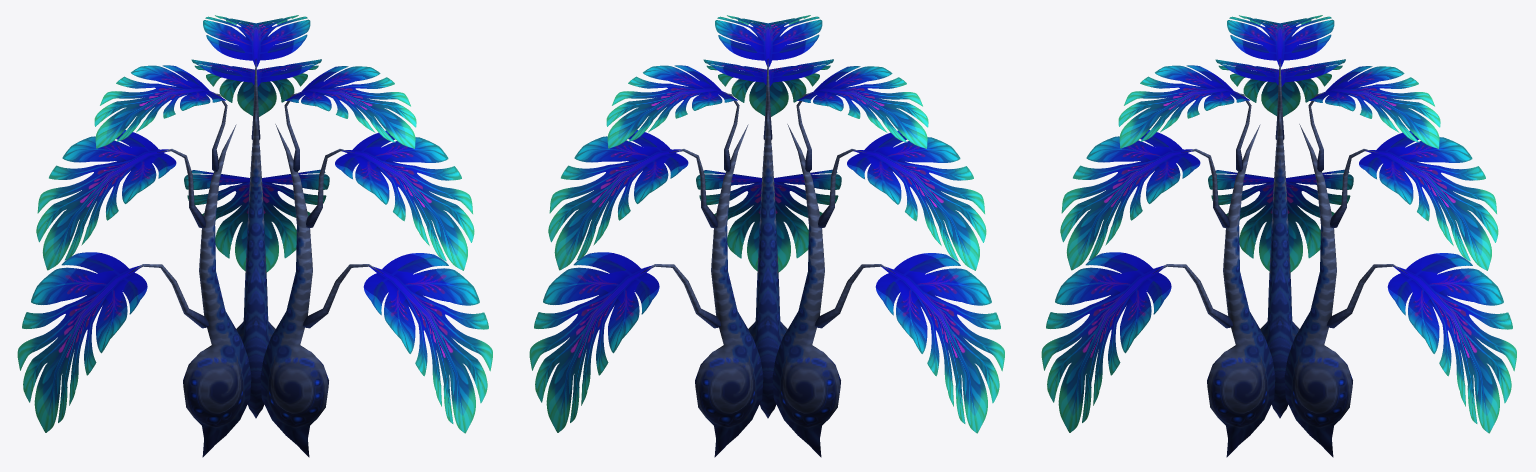
File: Blue_Tree_03a.FBX
3 views of the same model, side by side, from view 1: azimuth 30°, elevation 25°; view 2: azimuth 150°, elevation 25°; view 3: azimuth 270°, elevation 25° (orthographic).
Visible parts, largest first — view 1: Blue_Tree_03a; view 2: Blue_Tree_03a; view 3: Blue_Tree_03a.
Boxes of the visible parts, bbox=[...] form: Blue_Tree_03a: bbox=[17, 15, 492, 457]; Blue_Tree_03a: bbox=[529, 15, 1004, 457]; Blue_Tree_03a: bbox=[1041, 15, 1516, 457].
Size of the model in its own units: 203 by 201 by 232.
